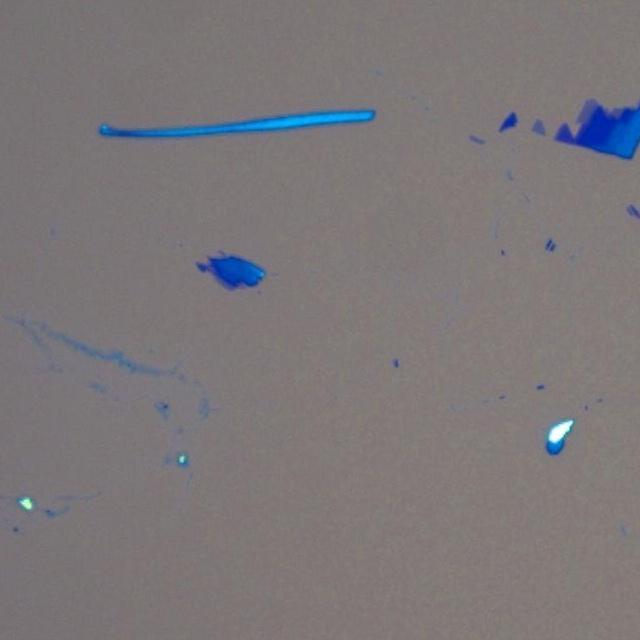monolayer-eWW4: (576, 96, 596, 125), (532, 117, 548, 136), (610, 104, 622, 120)
